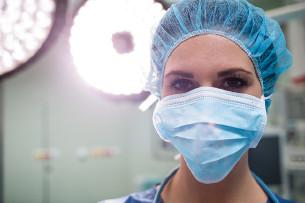OK: (160, 50, 263, 173)
